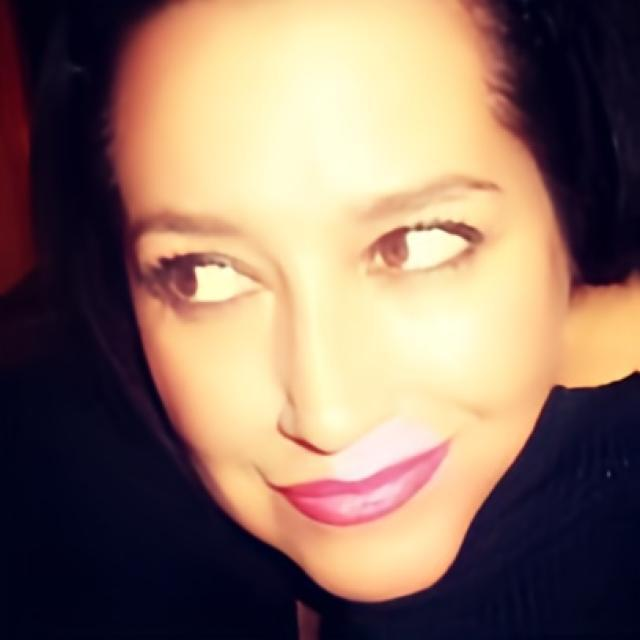content: (108, 0, 575, 604)
